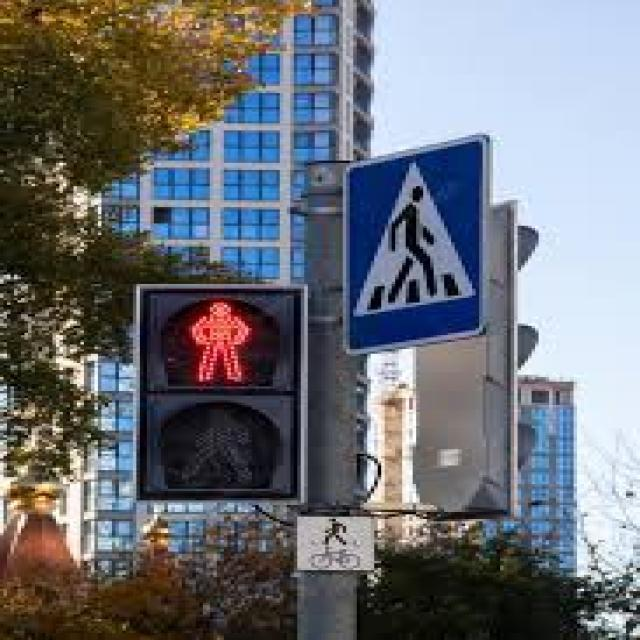redlight: (138, 284, 307, 500)
